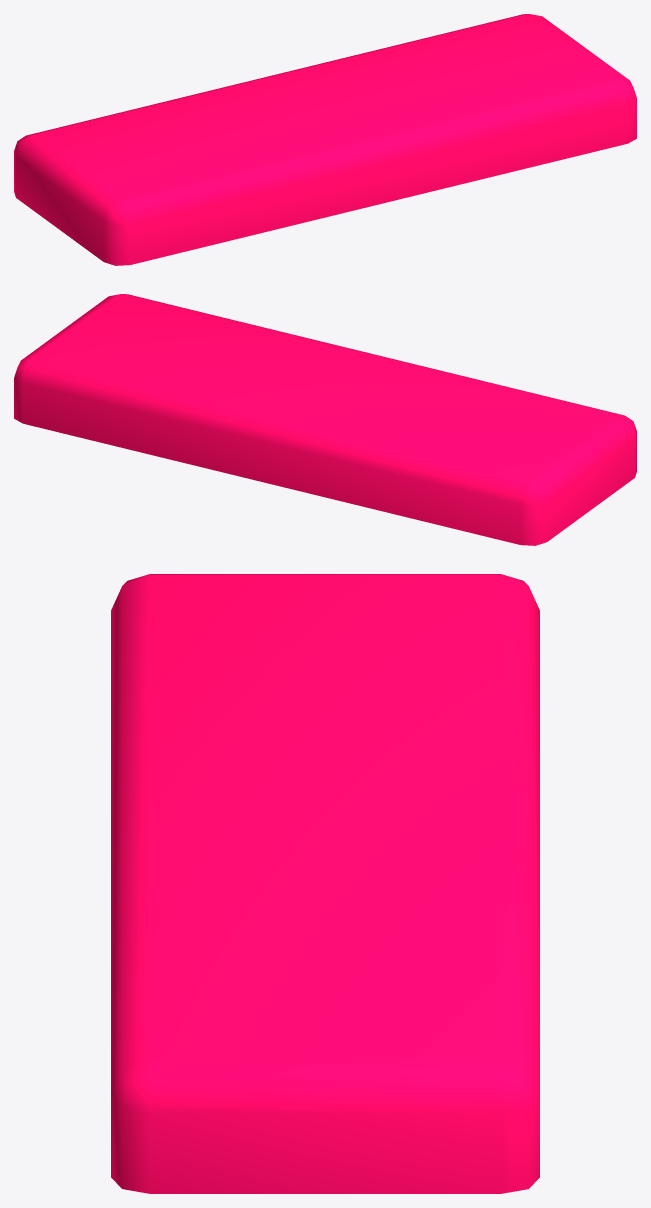
File: button_rectangle_red.glb
3 renders of one model, top to bottom at view 1: azimuth 30°, elevation 25°; view 2: azimuth 150°, elevation 25°; view 3: azimuth 270°, elevation 25°, orthographic. The views are drawn at different scales.
Parts seen in each view (by area): view 1: Cube.001; view 2: Cube.001; view 3: Cube.001.
Boxes of the visible parts, <box> form: Cube.001: <box>14,14,636,265</box>; Cube.001: <box>14,294,636,545</box>; Cube.001: <box>111,574,539,1193</box>.
Size of what is drawn, in the model's own units: 0.3845 by 0.0403 by 0.1345.
Materials: 1 (1 with a texture image).
